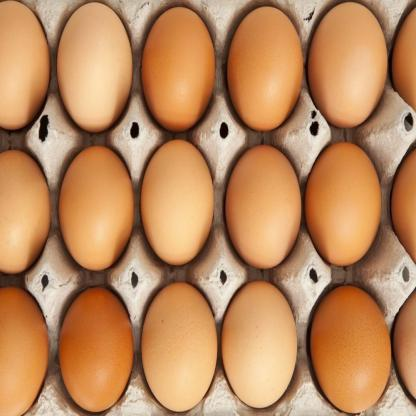egg: (309, 281, 392, 414), (140, 281, 220, 415), (226, 3, 306, 134), (57, 2, 136, 134), (309, 2, 389, 131), (222, 280, 300, 411), (140, 3, 218, 134), (224, 145, 303, 273), (305, 139, 382, 270), (57, 143, 135, 271), (140, 138, 216, 267), (57, 286, 133, 413), (0, 2, 52, 131), (0, 282, 48, 416), (0, 149, 50, 276), (389, 145, 416, 266), (392, 3, 416, 116), (394, 281, 416, 403)
